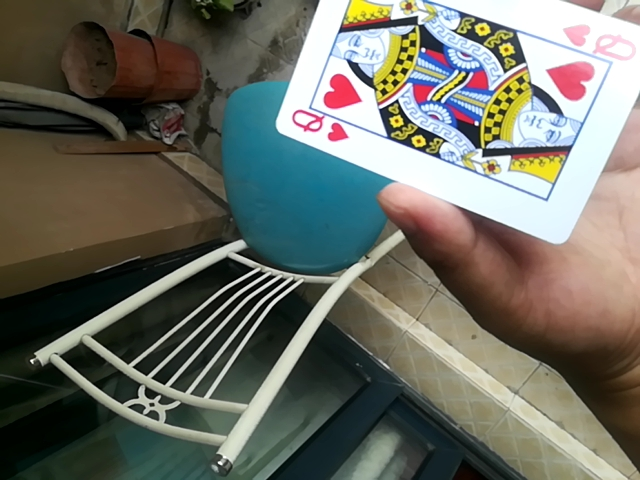hx q: (270, 1, 640, 251)
